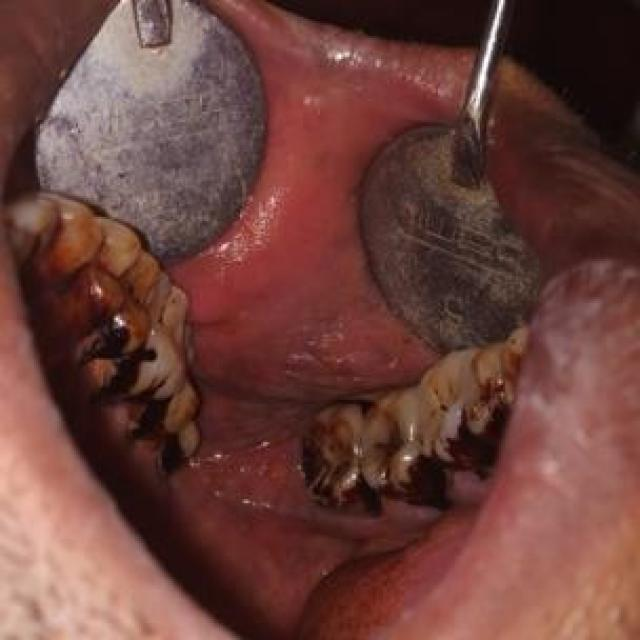leukoplakia-detection: (198, 302, 416, 517)
processing_area: (168, 18, 471, 638)
